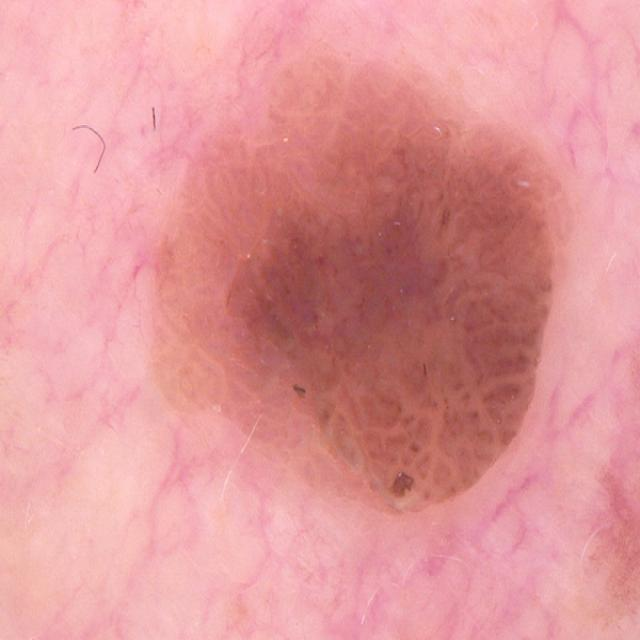Skin-Cancer Pigmented benign keratosis: (101, 13, 638, 640)
